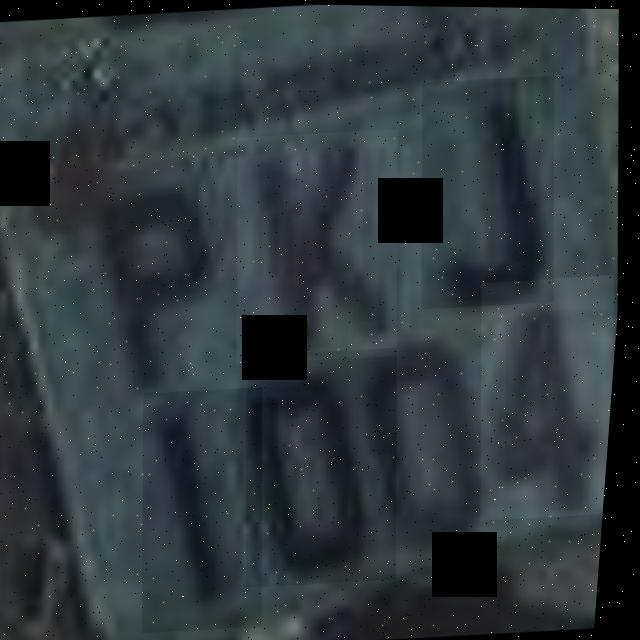0: (340, 310, 526, 562), (240, 344, 418, 588)
1: (136, 384, 286, 634)
4: (471, 271, 625, 521)
J: (409, 71, 571, 309)
K: (226, 125, 415, 365)
P: (75, 176, 227, 401)
